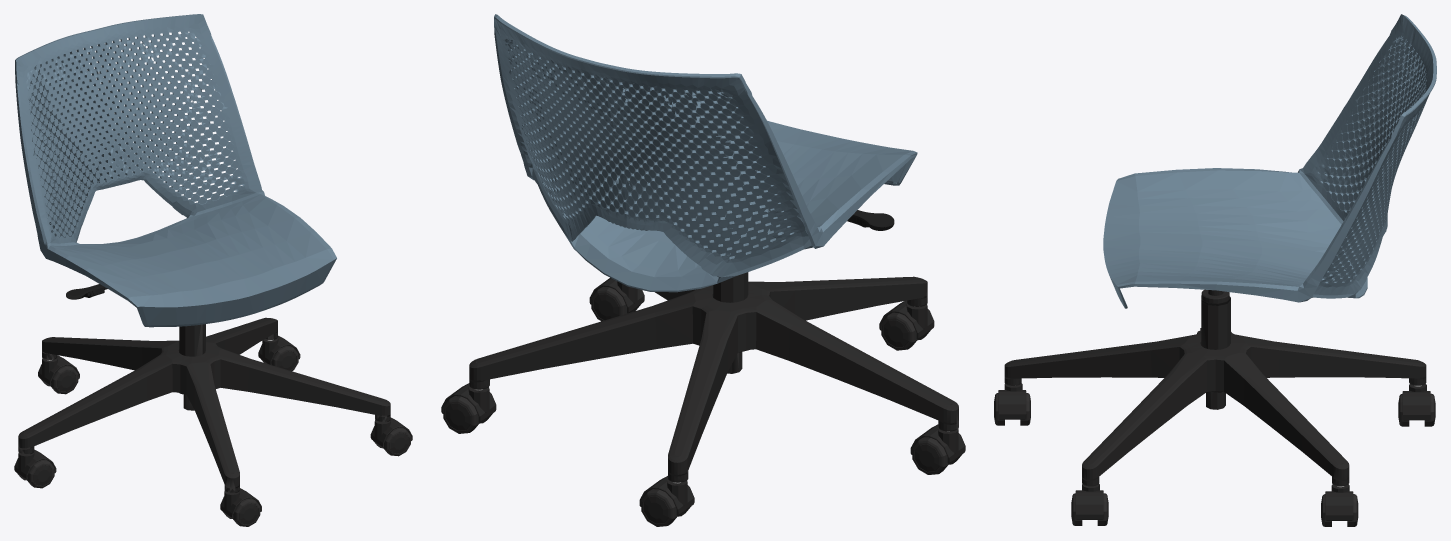
File: cadeira_strike_giratoria_frisokar_agave_casa.glb
The picture shows the model from 3 angles, left to right: view 1: azimuth 30°, elevation 25°; view 2: azimuth 150°, elevation 25°; view 3: azimuth 270°, elevation 25°; orthographic projection. The views are drawn at different scales.
Visible parts, largest first — view 1: ACABAMENTO, Group2; view 2: ACABAMENTO, Group2, ESTRUTURA; view 3: ACABAMENTO, Group2.
Boxes of the visible parts, <box> form: ACABAMENTO: <box>15,14,336,327</box>; Group2: <box>14,317,412,526</box>; ACABAMENTO: <box>494,14,917,292</box>; Group2: <box>441,272,965,526</box>; ESTRUTURA: <box>713,210,894,297</box>; ACABAMENTO: <box>1103,14,1436,308</box>; Group2: <box>994,295,1435,526</box>.
Bounding box in the file's own units: 0.6869 × 0.6895 × 0.719.
8 materials, 1 textured.
